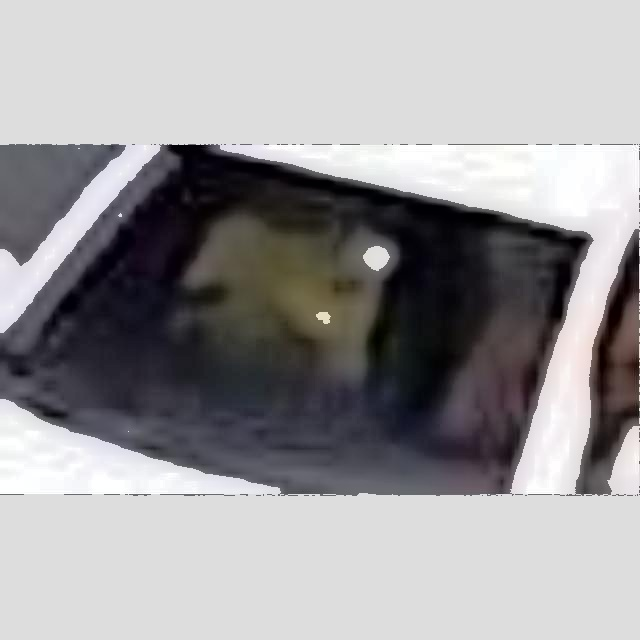tidak-pakai: (175, 195, 366, 378)
